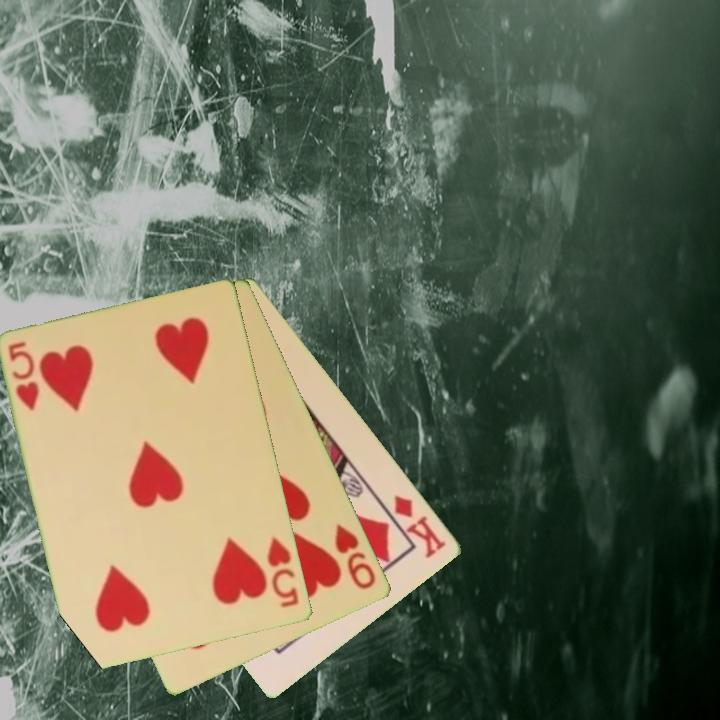5h: (264, 533, 302, 611), (5, 338, 43, 415)
9h: (332, 521, 380, 593)
Kd: (391, 491, 450, 561)
